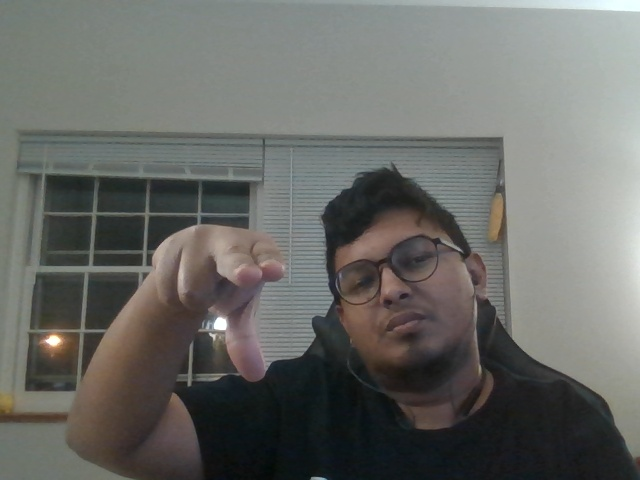no: (136, 212, 301, 387)
